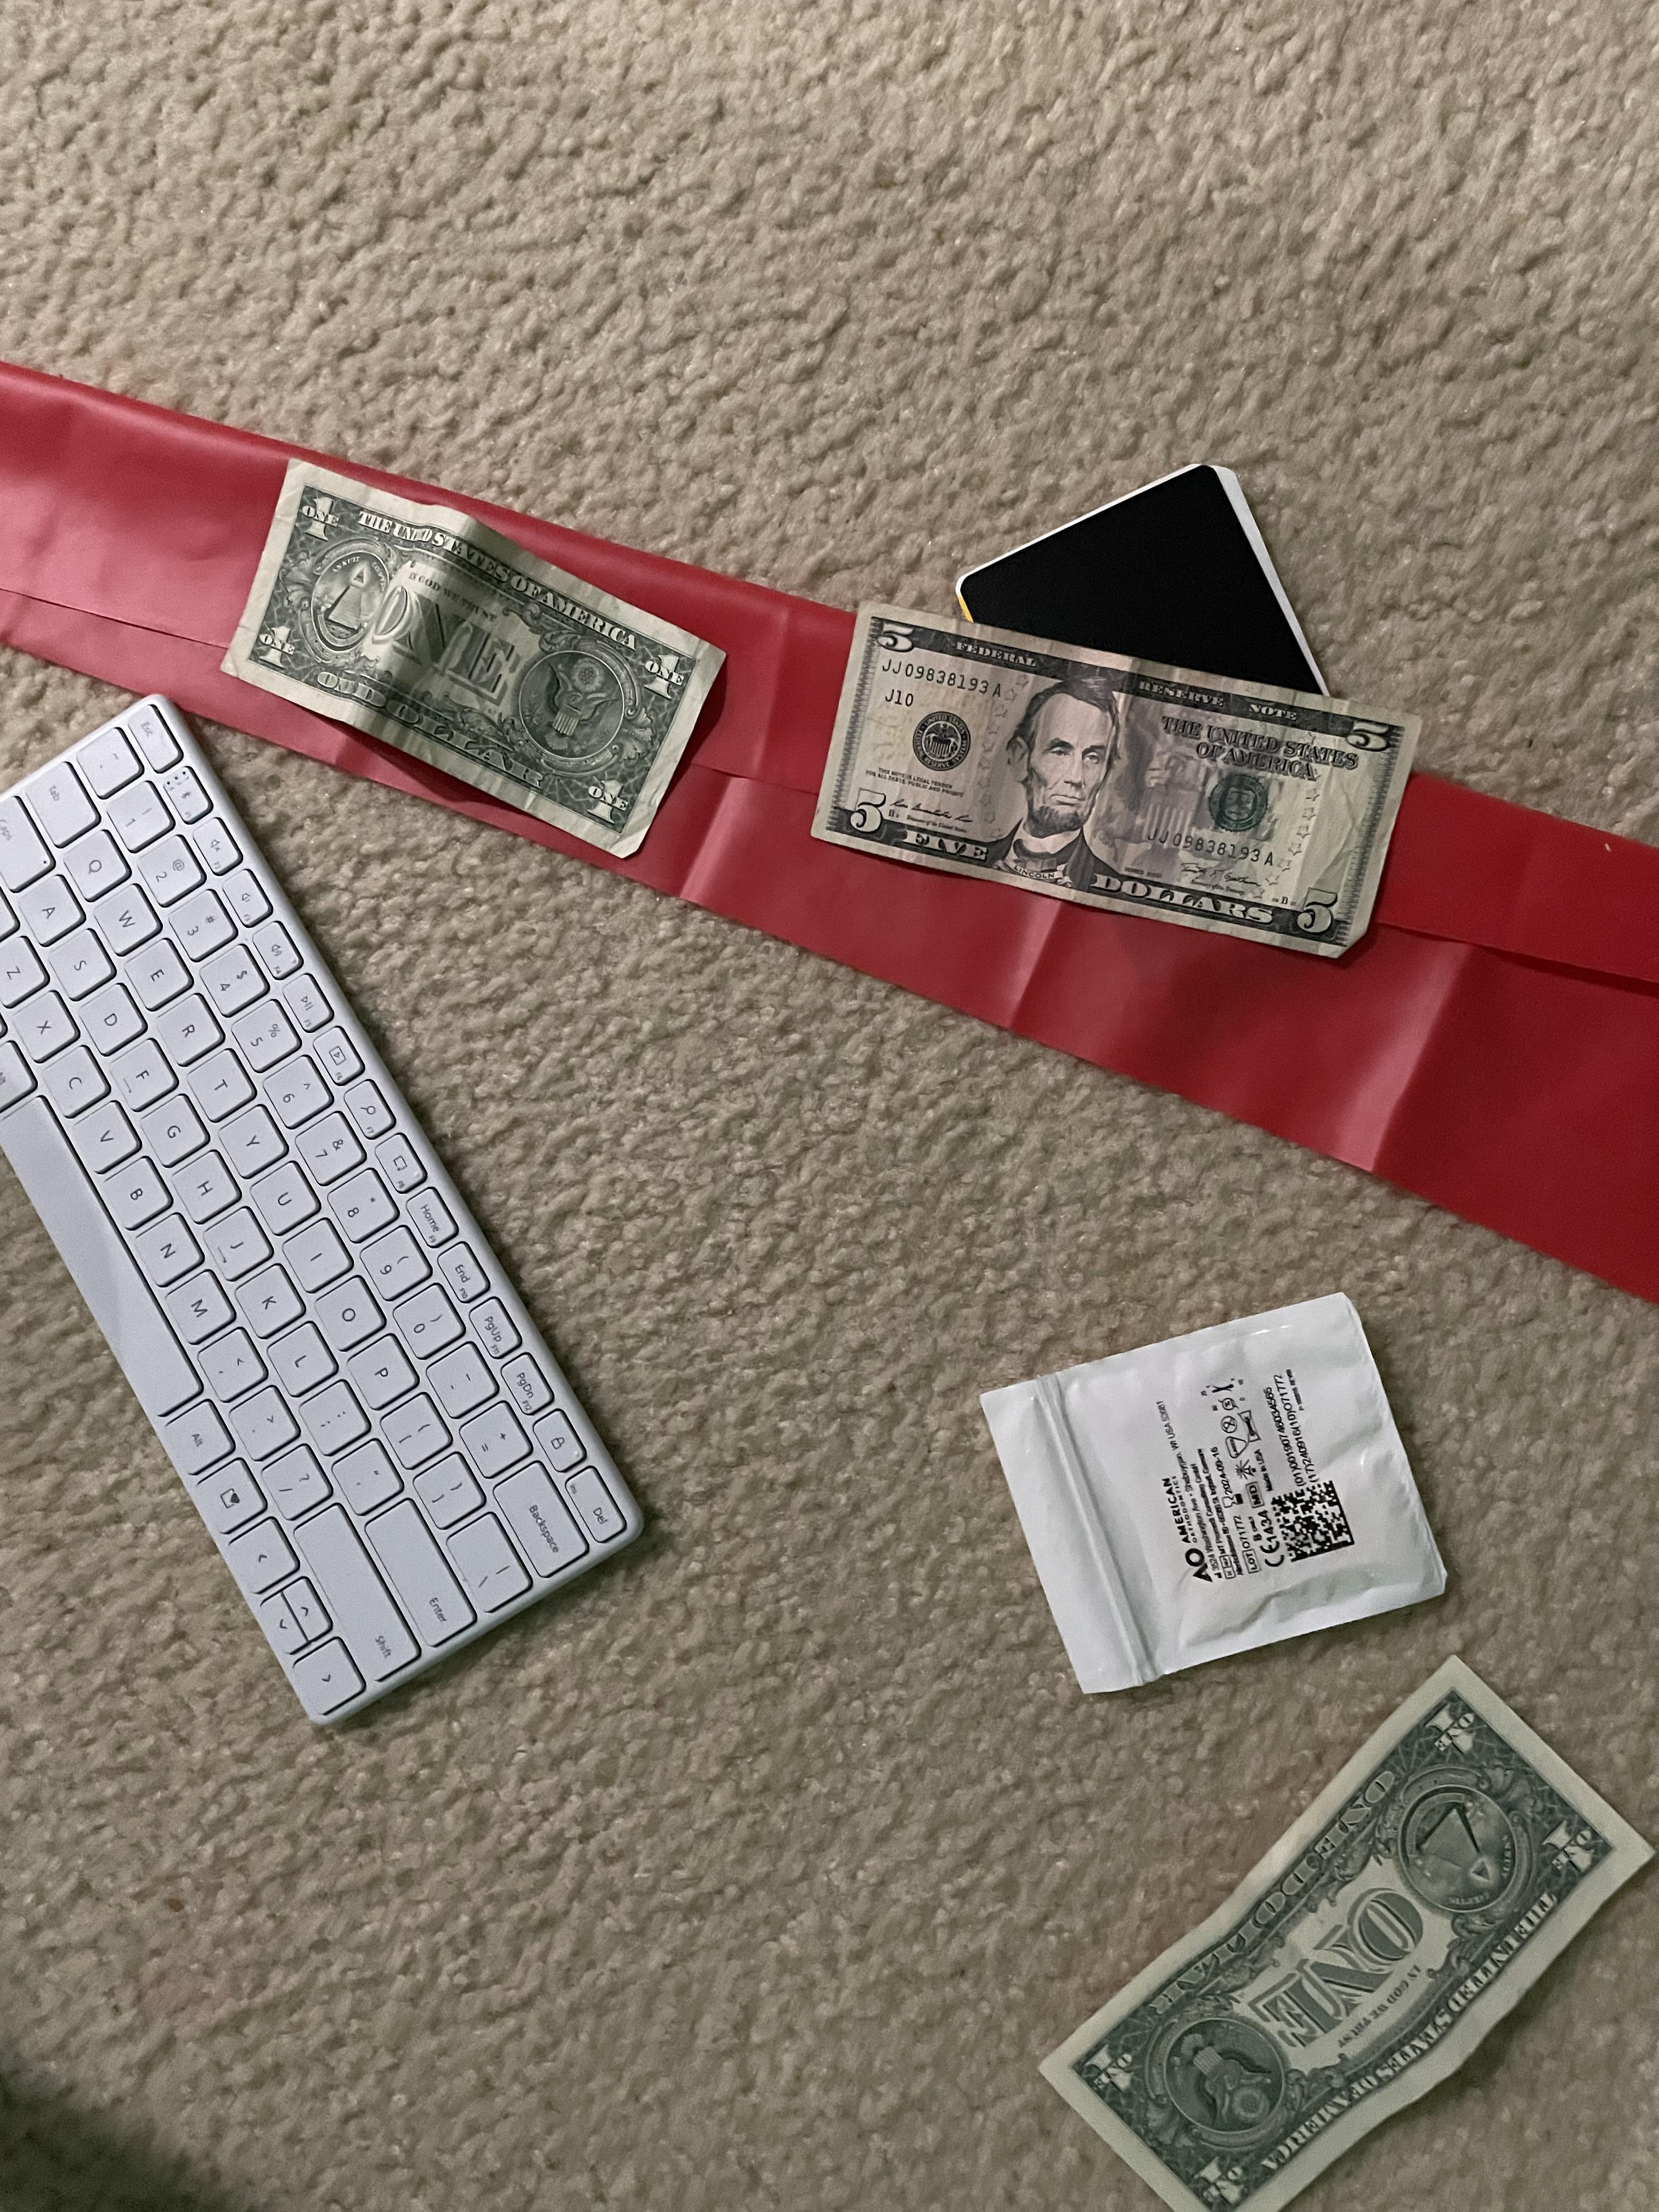FiveBill: (800, 597, 1429, 953)
OneBill: (1025, 1644, 1647, 2203), (216, 446, 730, 874)
